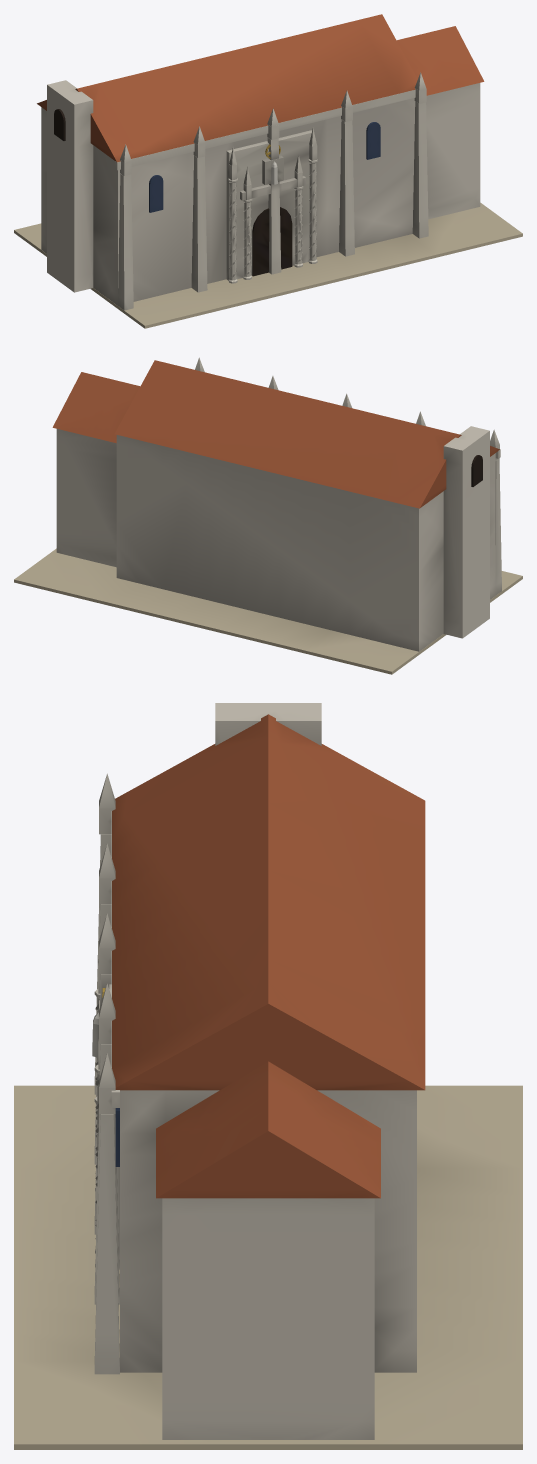
File: misericordia.glb
3 views of the same model, one above another, from view 1: azimuth 30°, elevation 25°; view 2: azimuth 150°, elevation 25°; view 3: azimuth 270°, elevation 25° (orthographic). The views are drawn at different scales.
Visible parts, largest first — view 1: p1_church, p2_portal, p0_ground; view 2: p1_church, p0_ground, p2_portal; view 3: p1_church, p0_ground, p2_portal.
Boxes of the visible parts, x1=… form: p1_church: x1=37, y1=14, x2=484, y2=310; p2_portal: x1=47, y1=80, x2=317, y2=292; p0_ground: x1=14, y1=202, x2=522, y2=328; p1_church: x1=52, y1=357, x2=501, y2=651; p0_ground: x1=14, y1=548, x2=522, y2=674; p2_portal: x1=443, y1=426, x2=489, y2=638; p1_church: x1=94, y1=714, x2=425, y2=1439; p0_ground: x1=14, y1=1085, x2=522, y2=1449; p2_portal: x1=92, y1=703, x2=321, y2=1269.
Bounding box in the file's own units: 42.18 × 19.5 × 24.
